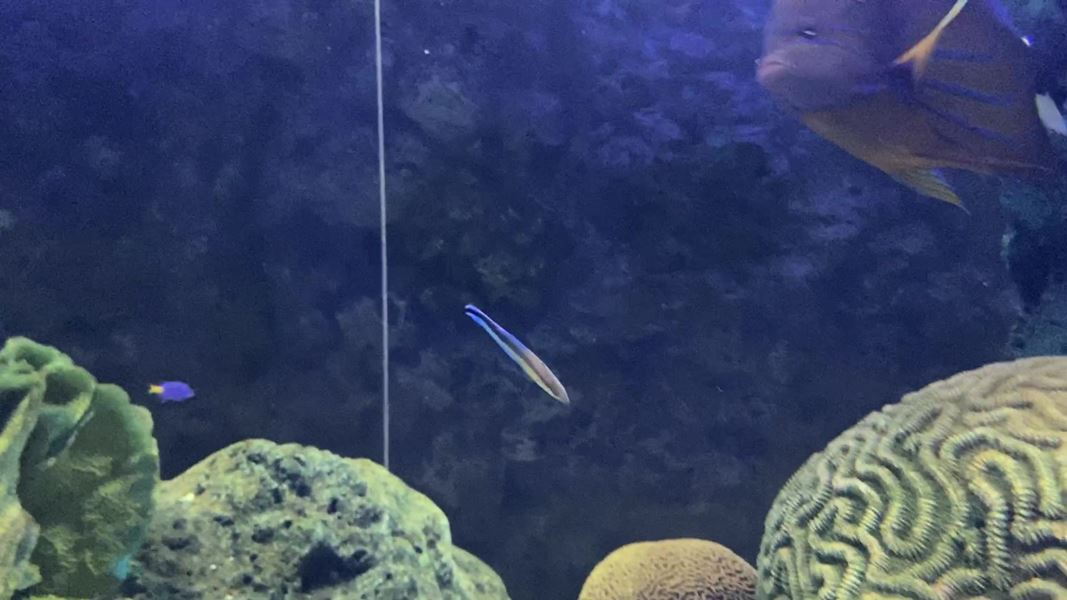Bluesteak cleaner wrasse: (450, 294, 580, 415)
